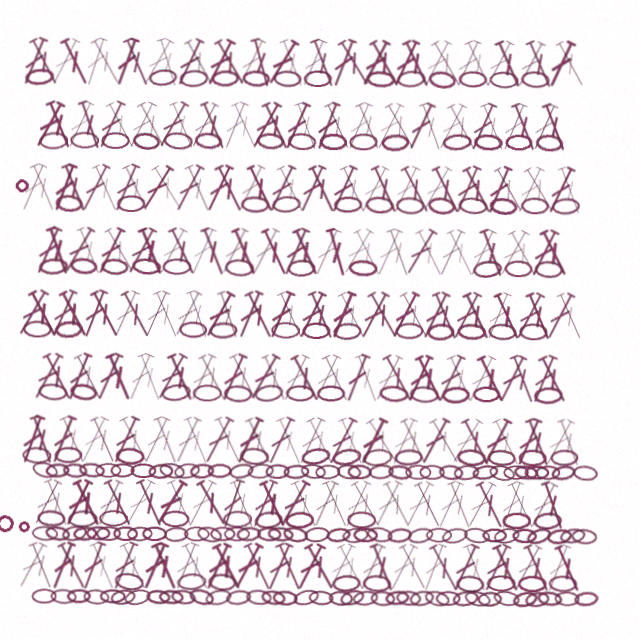chain: (332, 446, 363, 468), (161, 383, 192, 404), (254, 383, 285, 404), (301, 446, 332, 467), (115, 572, 146, 593), (69, 383, 99, 404), (363, 447, 394, 467), (526, 524, 554, 546), (426, 69, 456, 89), (426, 195, 456, 215), (457, 195, 487, 215), (472, 258, 502, 278), (32, 461, 60, 482), (189, 587, 217, 608), (294, 587, 322, 608), (340, 587, 368, 608), (131, 132, 160, 152), (488, 195, 517, 215), (255, 510, 284, 530), (23, 69, 53, 88), (395, 69, 425, 88), (519, 69, 549, 88), (162, 132, 192, 151), (286, 132, 316, 151), (441, 132, 471, 151), (472, 132, 502, 151), (271, 195, 301, 214), (364, 195, 394, 214), (131, 258, 161, 277), (38, 384, 68, 403), (379, 384, 409, 403), (240, 447, 270, 466), (457, 447, 487, 466), (534, 510, 564, 529), (178, 573, 208, 592), (489, 462, 517, 482), (408, 525, 436, 545), (442, 525, 470, 545), (125, 588, 153, 608), (206, 588, 234, 608), (465, 588, 493, 608), (147, 69, 176, 88), (193, 132, 222, 151), (255, 132, 284, 151), (534, 132, 563, 151), (54, 195, 83, 214), (69, 258, 98, 277), (54, 321, 83, 340), (209, 573, 238, 592), (364, 70, 394, 88), (38, 259, 68, 277), (224, 259, 254, 277), (69, 511, 99, 529), (197, 525, 224, 545), (333, 574, 363, 592), (425, 588, 452, 608), (513, 588, 540, 608), (159, 462, 187, 481), (174, 462, 202, 481), (472, 462, 500, 481), (367, 525, 395, 544), (464, 525, 492, 544), (494, 525, 522, 544), (560, 525, 588, 544), (453, 588, 481, 607), (494, 588, 522, 607), (178, 70, 207, 88), (488, 70, 517, 88), (38, 133, 67, 151), (240, 196, 269, 214), (395, 196, 424, 214), (100, 259, 129, 277), (348, 259, 377, 277), (534, 259, 563, 277), (209, 322, 238, 340), (333, 322, 362, 340), (457, 322, 486, 340), (488, 322, 517, 340), (224, 385, 253, 403), (410, 385, 439, 403), (534, 385, 563, 403), (23, 448, 52, 466), (116, 448, 145, 466), (395, 448, 424, 466), (488, 448, 517, 466), (38, 511, 67, 529), (286, 511, 315, 529), (364, 574, 393, 592), (457, 574, 486, 592), (229, 462, 256, 481), (551, 462, 578, 481), (62, 525, 89, 544), (283, 525, 310, 544), (410, 588, 437, 607), (210, 70, 238, 88), (241, 70, 269, 88), (272, 70, 300, 88), (380, 133, 408, 151), (551, 196, 579, 214), (287, 259, 315, 277), (427, 322, 455, 340), (442, 385, 470, 403), (302, 70, 331, 87), (457, 70, 486, 87), (69, 133, 98, 150), (100, 133, 129, 150), (348, 133, 377, 150), (116, 196, 145, 213), (333, 196, 362, 213), (162, 259, 191, 276), (23, 322, 52, 339), (271, 322, 300, 339), (302, 322, 331, 339), (395, 322, 424, 339), (519, 322, 548, 339), (193, 385, 222, 402), (286, 385, 315, 402), (317, 385, 346, 402), (519, 448, 548, 465), (100, 511, 129, 528), (162, 511, 191, 528), (224, 511, 253, 528), (348, 511, 377, 528), (503, 511, 532, 528), (488, 574, 517, 591), (519, 574, 548, 591), (550, 574, 579, 591), (45, 526, 72, 544), (343, 526, 370, 544), (547, 526, 574, 544), (111, 589, 138, 607), (318, 133, 346, 150), (504, 133, 532, 150), (520, 196, 548, 213), (504, 259, 532, 276), (179, 322, 207, 339), (473, 385, 501, 402), (55, 448, 83, 465), (551, 448, 579, 465), (388, 463, 414, 481), (327, 526, 353, 544), (388, 526, 414, 544), (172, 589, 198, 607), (227, 589, 253, 607), (262, 589, 288, 607), (354, 589, 380, 607), (526, 589, 552, 607), (79, 463, 106, 480), (248, 463, 275, 480), (454, 463, 481, 480), (268, 526, 295, 543), (247, 589, 274, 606), (190, 463, 216, 480), (301, 463, 327, 480), (337, 463, 363, 480), (369, 463, 395, 480), (439, 463, 465, 480), (514, 463, 540, 480), (573, 463, 599, 480), (237, 526, 263, 543), (305, 526, 331, 543), (386, 589, 412, 606), (397, 589, 423, 606), (538, 589, 564, 606), (575, 589, 601, 606), (572, 527, 599, 543), (63, 464, 89, 480), (284, 464, 310, 480), (33, 527, 59, 543), (128, 527, 154, 543), (52, 590, 78, 606), (85, 590, 111, 606), (147, 590, 173, 606), (46, 464, 71, 480), (149, 464, 174, 480), (316, 464, 341, 480), (74, 527, 99, 543), (165, 527, 190, 543), (160, 590, 185, 606), (274, 590, 299, 606), (310, 590, 335, 606), (330, 590, 355, 606), (372, 590, 397, 606), (479, 590, 504, 606), (96, 464, 122, 479), (131, 464, 157, 479), (406, 464, 432, 479), (420, 464, 446, 479), (504, 464, 530, 479), (185, 527, 211, 542), (211, 527, 237, 542), (225, 527, 251, 542), (427, 527, 453, 542), (101, 590, 127, 605), (111, 464, 136, 479), (208, 464, 233, 479), (266, 464, 291, 479), (348, 464, 373, 479), (525, 464, 550, 479), (536, 464, 561, 479), (87, 527, 112, 542), (97, 527, 122, 542), (114, 527, 139, 542), (143, 527, 168, 542), (258, 527, 283, 542), (354, 527, 379, 542), (483, 527, 508, 542), (513, 527, 538, 542), (33, 590, 58, 605), (68, 590, 93, 605), (437, 590, 462, 605), (556, 590, 581, 605)
double: (363, 415, 404, 466), (209, 37, 249, 88), (261, 37, 301, 88), (333, 37, 373, 88), (147, 163, 187, 214), (519, 163, 559, 214), (400, 226, 440, 277), (447, 415, 487, 466), (152, 478, 192, 529), (85, 37, 124, 88), (137, 37, 176, 88), (364, 37, 403, 88), (426, 37, 465, 88), (550, 37, 589, 88), (152, 100, 191, 151), (416, 163, 455, 214), (59, 226, 98, 277), (100, 226, 139, 277), (338, 226, 377, 277), (13, 289, 52, 340), (364, 289, 403, 340), (152, 352, 191, 403), (245, 352, 284, 403), (379, 352, 418, 403), (116, 415, 155, 466), (426, 415, 465, 466), (121, 478, 160, 529), (276, 478, 315, 529), (348, 478, 387, 529), (302, 541, 341, 592), (24, 37, 62, 89), (355, 37, 393, 89), (510, 37, 548, 89), (29, 100, 67, 152), (101, 100, 139, 152), (132, 100, 170, 152), (184, 100, 222, 152), (442, 100, 480, 152), (169, 163, 207, 215), (396, 163, 434, 215), (458, 163, 496, 215), (122, 226, 160, 278), (153, 226, 191, 278), (494, 226, 532, 278), (504, 226, 542, 278), (24, 289, 62, 341), (55, 289, 93, 341), (86, 289, 124, 341), (117, 289, 155, 341), (200, 289, 238, 341), (355, 289, 393, 341), (510, 289, 548, 341), (541, 289, 579, 341), (29, 352, 67, 404), (39, 352, 77, 404), (70, 352, 108, 404), (194, 352, 232, 404), (287, 352, 325, 404), (200, 415, 238, 467), (458, 415, 496, 467), (541, 415, 579, 467), (29, 478, 67, 530), (463, 478, 501, 530), (525, 478, 563, 530), (14, 541, 52, 593), (55, 541, 93, 593), (210, 541, 248, 593), (334, 541, 372, 593), (427, 541, 465, 593), (137, 164, 176, 214), (179, 37, 217, 88), (246, 100, 284, 151), (380, 100, 418, 151), (489, 163, 527, 214), (194, 478, 232, 529), (45, 37, 82, 89), (55, 37, 92, 89), (200, 37, 237, 89), (417, 37, 454, 89), (479, 37, 516, 89), (122, 100, 159, 152), (370, 100, 407, 152), (432, 100, 469, 152), (76, 163, 113, 215), (210, 163, 247, 215), (272, 163, 309, 215), (355, 163, 392, 215), (427, 163, 464, 215), (349, 226, 386, 278), (411, 226, 448, 278), (442, 226, 479, 278), (525, 226, 562, 278), (241, 289, 278, 341), (293, 289, 330, 341), (334, 289, 371, 341), (417, 289, 454, 341), (448, 289, 485, 341), (318, 352, 355, 404), (370, 352, 407, 404), (411, 352, 448, 404), (463, 352, 500, 404), (473, 352, 510, 404), (494, 352, 531, 404), (535, 352, 572, 404), (76, 415, 113, 467), (241, 415, 278, 467), (303, 415, 340, 467), (324, 415, 361, 467), (479, 415, 516, 467), (489, 415, 526, 467), (70, 478, 107, 530), (101, 478, 138, 530), (184, 478, 221, 530), (401, 478, 438, 530), (411, 478, 448, 530), (473, 478, 510, 530), (117, 541, 154, 593), (179, 541, 216, 593), (241, 541, 278, 593), (293, 541, 330, 593), (324, 541, 361, 593), (386, 541, 423, 593), (169, 289, 206, 340), (396, 289, 433, 340), (417, 415, 454, 466), (380, 478, 417, 529), (231, 541, 268, 592), (396, 541, 433, 592), (510, 541, 547, 592), (170, 37, 206, 89), (397, 37, 433, 89), (459, 37, 495, 89), (542, 37, 578, 89), (61, 100, 97, 152), (92, 100, 128, 152), (226, 100, 262, 152), (257, 100, 293, 152), (402, 100, 438, 152), (87, 163, 123, 215), (263, 163, 299, 215), (335, 163, 371, 215), (366, 163, 402, 215), (387, 163, 423, 215), (511, 163, 547, 215), (542, 163, 578, 215), (92, 226, 128, 278), (164, 226, 200, 278), (464, 226, 500, 278), (273, 289, 309, 341), (459, 289, 495, 341), (309, 352, 345, 404), (433, 352, 469, 404), (443, 352, 479, 404), (56, 415, 92, 467), (108, 415, 144, 467), (170, 415, 206, 467), (232, 415, 268, 467), (263, 415, 299, 467), (294, 415, 330, 467), (356, 415, 392, 467), (61, 478, 97, 530), (92, 478, 128, 530), (133, 478, 169, 530), (164, 478, 200, 530), (288, 478, 324, 530), (340, 478, 376, 530), (433, 478, 469, 530), (505, 478, 541, 530), (480, 541, 516, 593), (490, 541, 526, 593), (232, 37, 268, 88), (232, 163, 268, 214), (242, 163, 278, 214), (216, 226, 252, 277), (247, 226, 283, 277), (536, 226, 572, 277), (387, 289, 423, 340), (226, 352, 262, 403), (211, 415, 247, 466), (397, 415, 433, 466), (371, 478, 407, 529), (118, 37, 153, 89), (387, 37, 422, 89), (449, 37, 484, 89), (490, 37, 525, 89), (521, 37, 556, 89), (164, 100, 199, 152), (195, 100, 230, 152), (278, 100, 313, 152), (319, 100, 354, 152), (350, 100, 385, 152), (464, 100, 499, 152), (526, 100, 561, 152), (15, 163, 50, 215), (25, 163, 60, 215), (108, 163, 143, 215), (118, 163, 153, 215), (180, 163, 215, 215), (201, 163, 236, 215), (294, 163, 329, 215), (304, 163, 339, 215), (325, 163, 360, 215), (449, 163, 484, 215), (30, 226, 65, 278), (185, 226, 220, 278), (257, 226, 292, 278), (278, 226, 313, 278), (288, 226, 323, 278), (309, 226, 344, 278), (371, 226, 406, 278), (433, 226, 468, 278), (46, 289, 81, 341), (108, 289, 143, 341), (139, 289, 174, 341), (149, 289, 184, 341), (304, 289, 339, 341), (428, 289, 463, 341), (490, 289, 525, 341), (92, 352, 127, 404), (102, 352, 137, 404), (123, 352, 158, 404), (164, 352, 199, 404), (185, 352, 220, 404), (216, 352, 251, 404), (278, 352, 313, 404), (87, 415, 122, 467), (139, 415, 174, 467), (180, 415, 215, 467), (273, 415, 308, 467), (335, 415, 370, 467), (387, 415, 422, 467), (257, 478, 292, 530), (309, 478, 344, 530), (319, 478, 354, 530), (87, 541, 122, 593), (139, 541, 174, 593), (149, 541, 184, 593), (263, 541, 298, 593), (273, 541, 308, 593), (356, 541, 391, 593), (449, 541, 484, 593), (521, 541, 556, 593), (552, 541, 587, 593), (16, 37, 50, 89), (274, 37, 308, 89), (295, 37, 329, 89), (41, 100, 75, 152), (217, 100, 251, 152), (341, 100, 375, 152), (475, 100, 509, 152), (496, 100, 530, 152), (506, 100, 540, 152), (57, 163, 91, 215), (481, 163, 515, 215), (72, 226, 106, 278), (134, 226, 168, 278), (196, 226, 230, 278), (227, 226, 261, 278), (233, 289, 267, 341), (264, 289, 298, 341), (326, 289, 360, 341), (481, 289, 515, 341), (522, 289, 556, 341), (553, 289, 587, 341), (62, 352, 96, 404), (258, 352, 292, 404), (403, 352, 437, 404), (506, 352, 540, 404), (527, 352, 561, 404), (47, 415, 81, 467), (150, 415, 184, 467), (512, 415, 546, 467), (522, 415, 556, 467), (41, 478, 75, 530), (227, 478, 261, 530), (248, 478, 282, 530), (444, 478, 478, 530), (26, 541, 60, 593), (109, 541, 143, 593), (202, 541, 236, 593), (367, 541, 401, 593), (460, 541, 494, 593), (109, 37, 142, 89), (305, 37, 338, 89), (326, 37, 359, 89), (289, 100, 322, 152), (310, 100, 343, 152), (537, 100, 570, 152), (553, 163, 586, 215), (382, 226, 415, 278), (475, 226, 508, 278), (78, 289, 111, 341), (134, 352, 167, 404), (341, 352, 374, 404), (351, 352, 384, 404), (496, 478, 529, 530), (78, 541, 111, 593), (171, 541, 204, 593), (419, 541, 452, 593), (543, 541, 576, 593), (73, 100, 105, 152), (414, 100, 446, 152), (48, 163, 80, 215), (42, 226, 74, 278), (182, 289, 214, 341), (17, 415, 49, 467), (27, 415, 59, 467), (554, 415, 586, 467), (538, 478, 570, 530), (48, 541, 80, 593), (79, 37, 110, 89), (151, 37, 182, 89), (213, 289, 244, 341), (218, 478, 249, 530), (245, 37, 274, 89), (322, 226, 351, 278)
noise: (0, 514, 17, 536), (14, 180, 29, 195), (18, 521, 32, 535)
